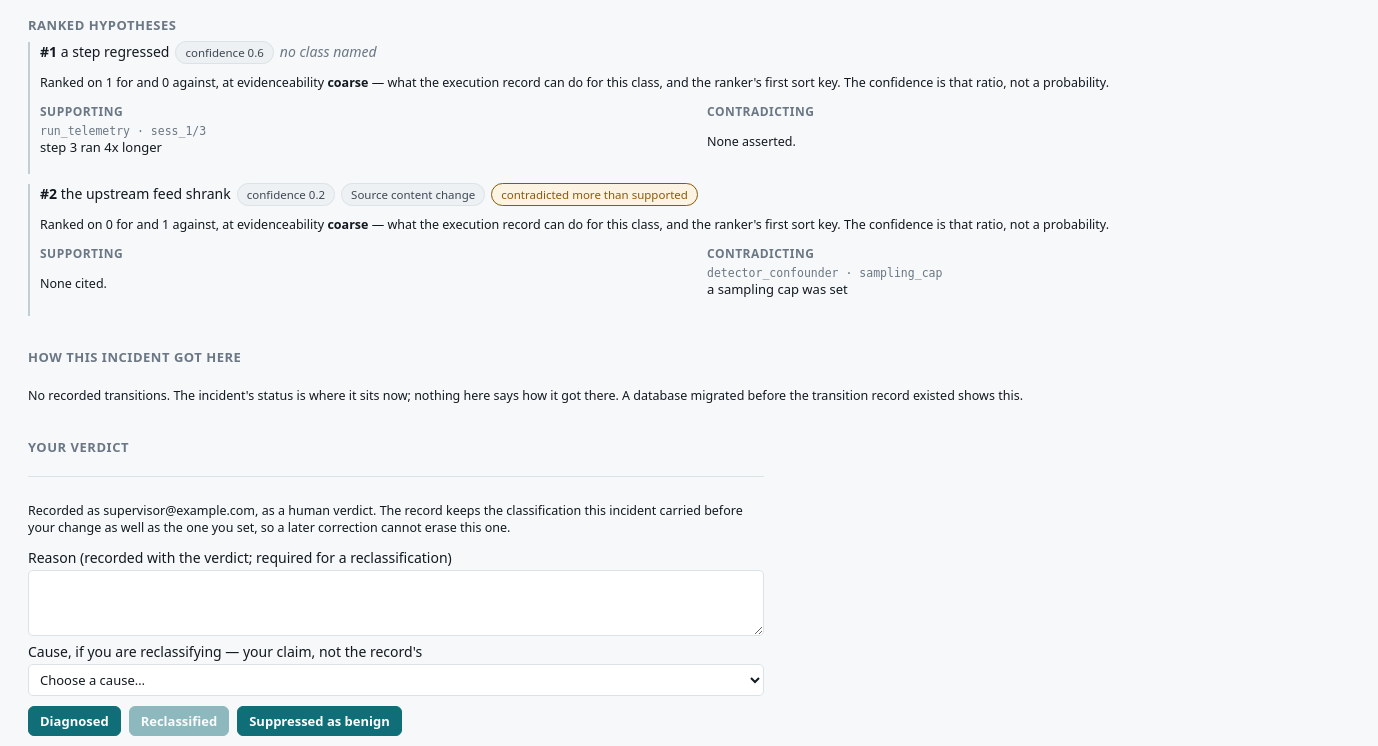
Test: the verdict control › re-reads on a 409 rather than reporting a failure to retry
(page scrolled)
Click the button "Diagnosed" at point(74, 721), box [28,706,121,736]
(page scrolled)
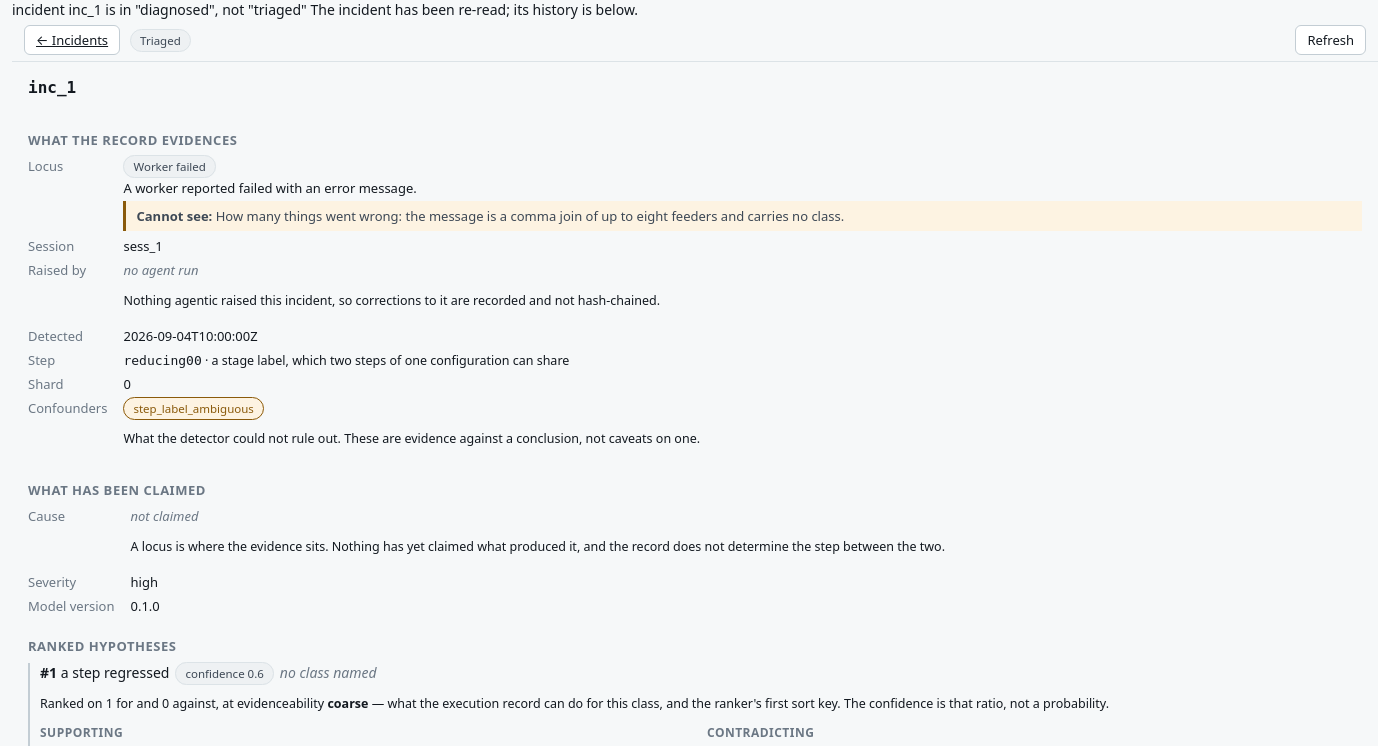
Expected: the text with test id "banner" shows "has been re-read", [12,0,638,19]
